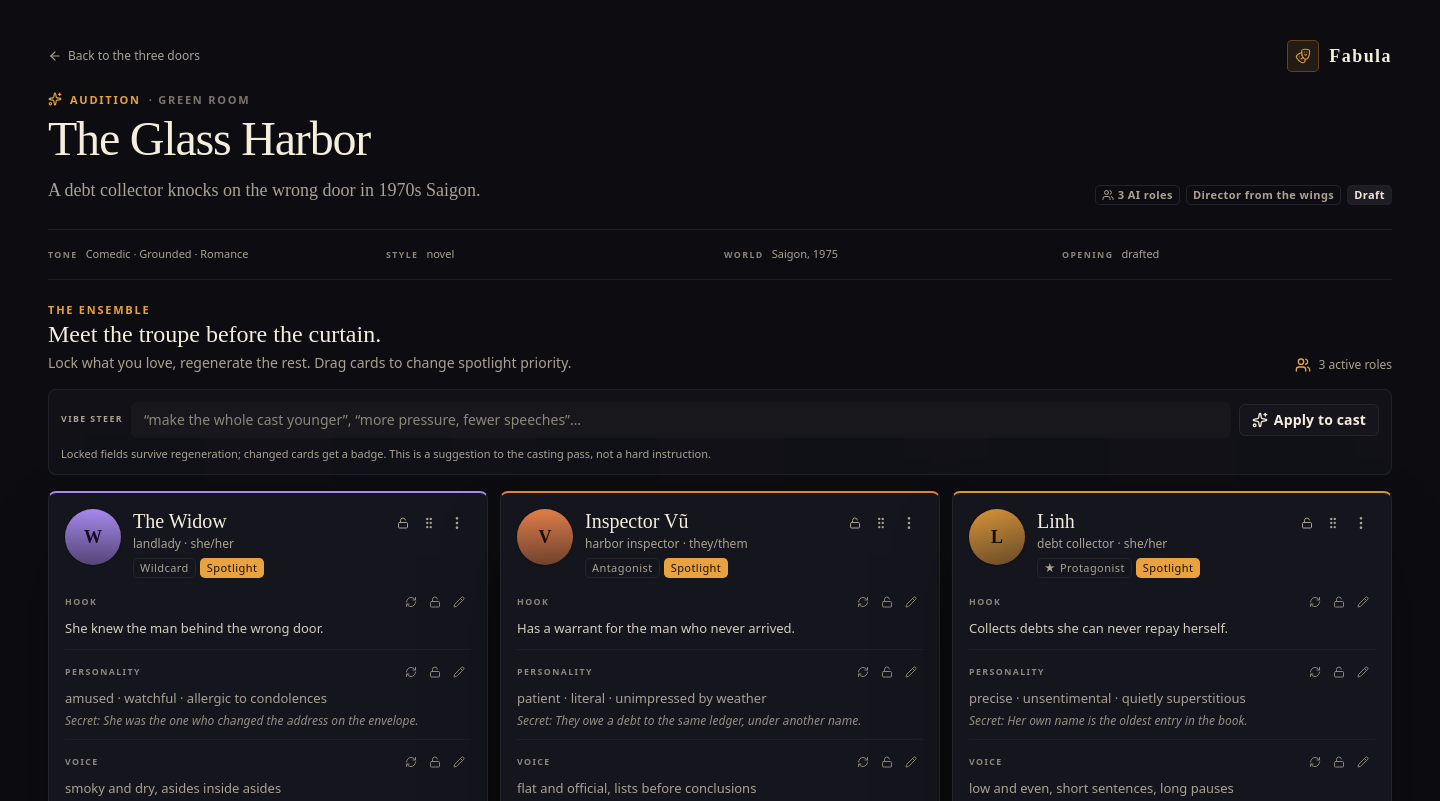
Test: audition grid › locks block field regeneration and survive a cast-wide vibe steer
Click the button named "Lock Hook for The Widow" at (435, 602), box [423,590,447,614]
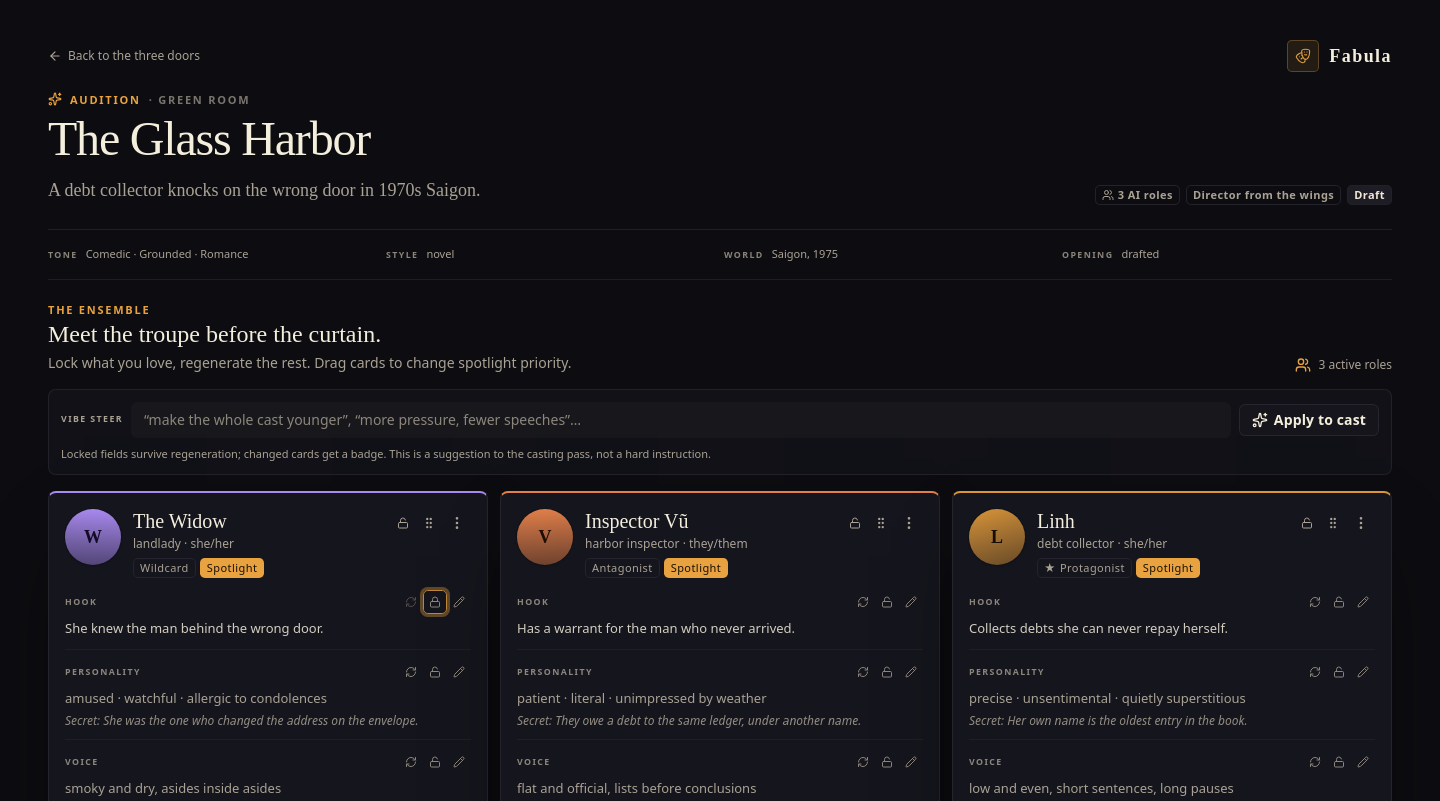
// Identity is locked too so the vibe steer keeps the name we query by.
Click the button named "Lock Identity for The Widow" at (403, 523), box [391,511,415,535]
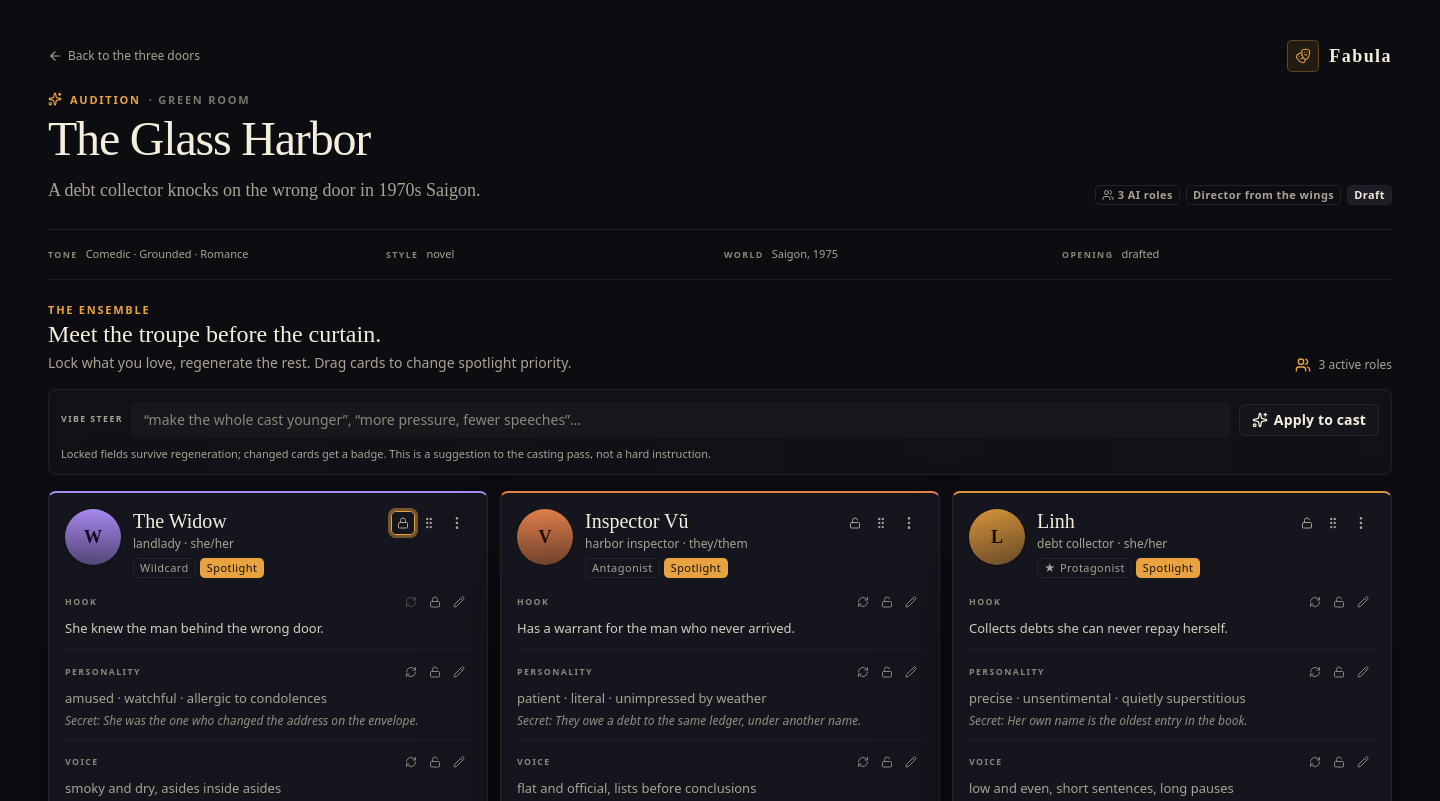
Type "make the whole cast younger" into the field labelled "Vibe steer" at (681, 420), box [131,402,1231,438]
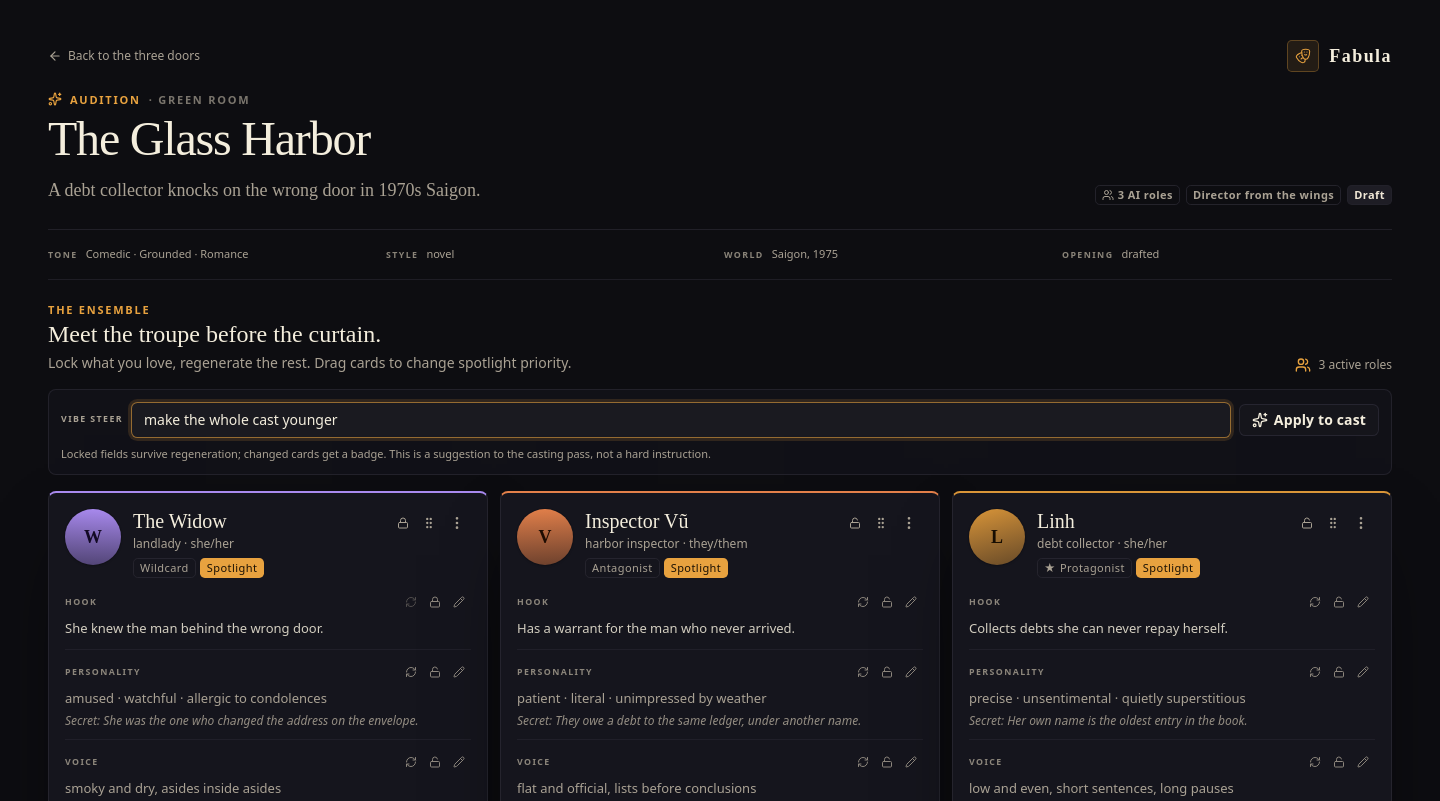
Click the button "Apply to cast" at (1309, 420), box [1239,404,1379,436]
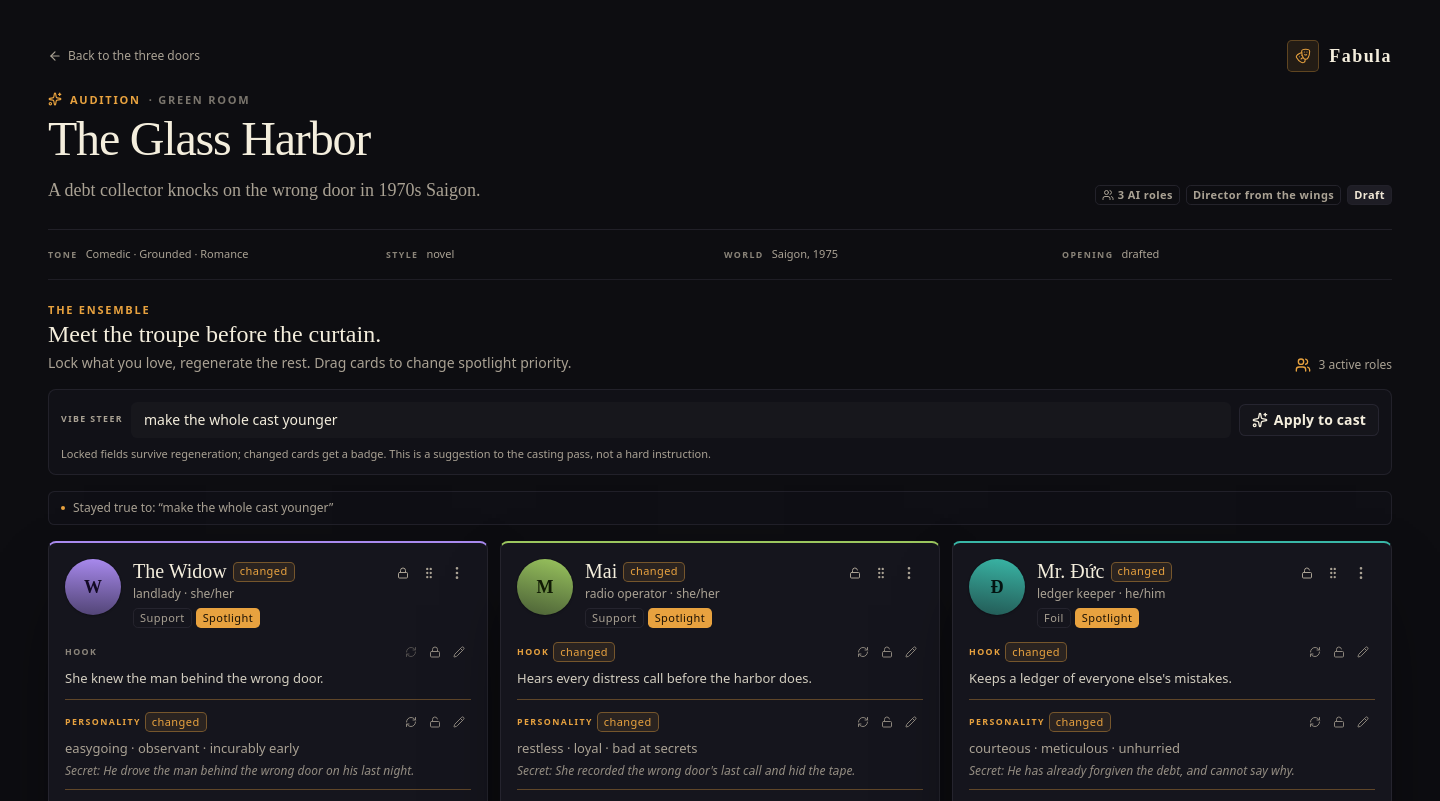
expect the text "She knew the man behind the wrong door." is shown: met, box [65,669,324,687]
expect the text "changed" next to "The Widow" is shown: met, box [240,563,288,578]
